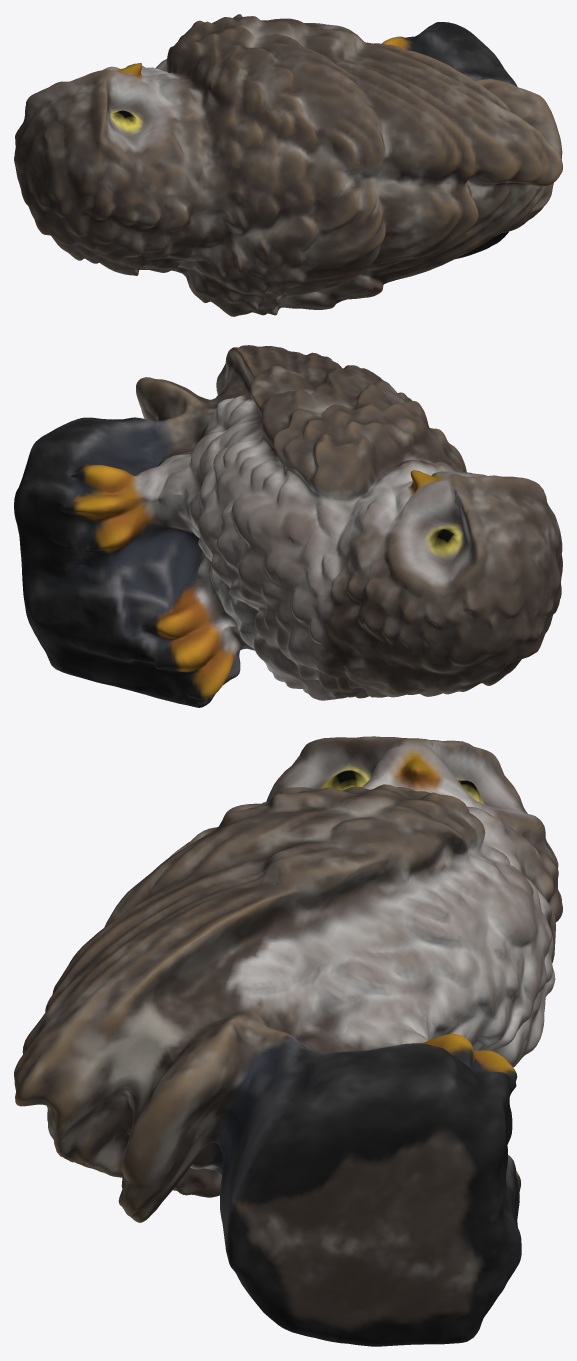
File: Prop - Owl.glb
3 renders of one model, top to bottom at view 1: azimuth 30°, elevation 25°; view 2: azimuth 150°, elevation 25°; view 3: azimuth 270°, elevation 25°, orthographic. The views are drawn at different scales.
Visible parts, largest first — view 1: owl; view 2: owl; view 3: owl.
Part boxes in pixels (bbox=[...]): owl: bbox=[14, 14, 562, 316]; owl: bbox=[14, 345, 562, 707]; owl: bbox=[14, 736, 562, 1346].
Size of the model in its own units: 0.7951 by 0.4437 by 0.5673.
1 material, 1 textured.
